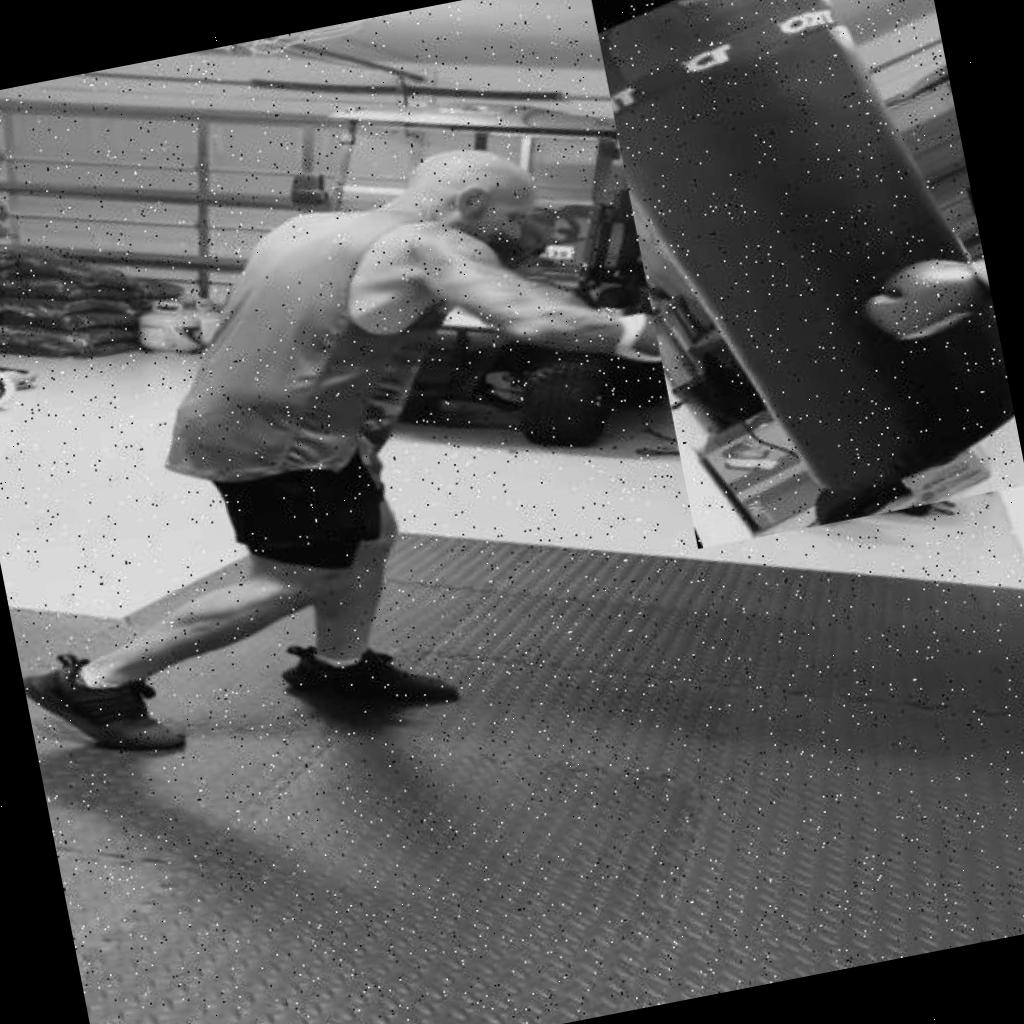bag: (587, 0, 1024, 549)
hook: (137, 5, 896, 535)
